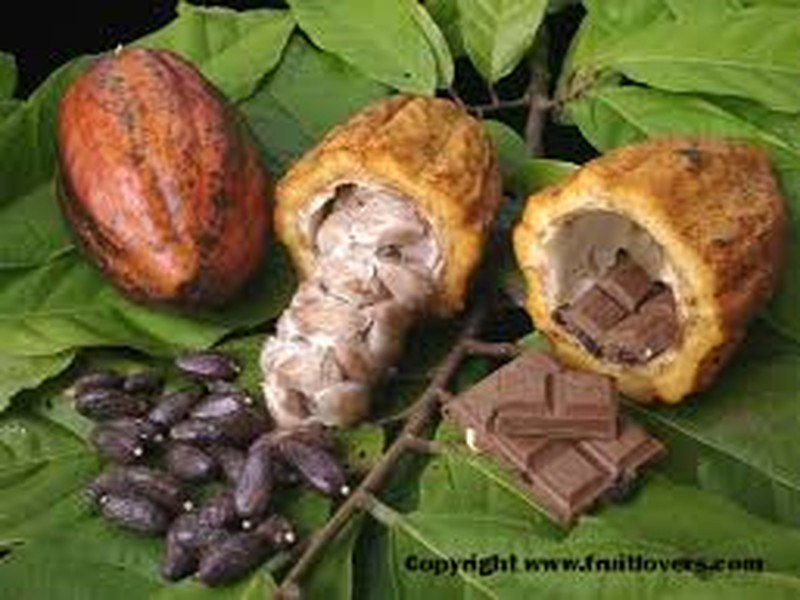Cacaopod: (55, 44, 274, 305)
